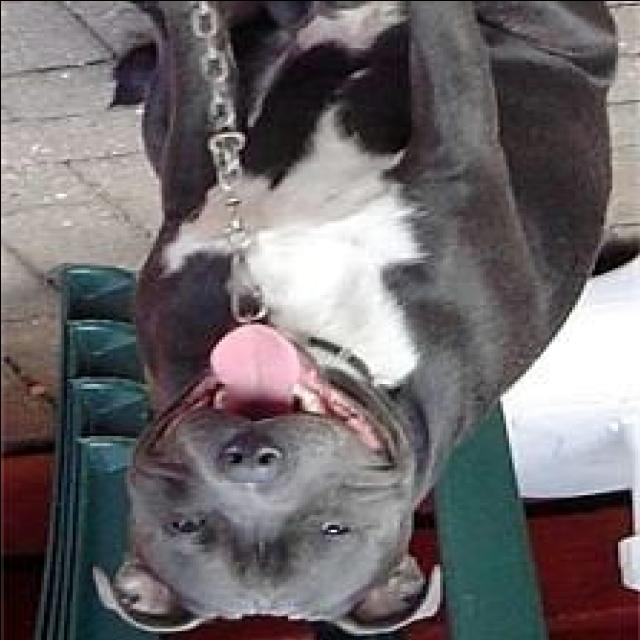staffordshire_bullterrier: (84, 2, 612, 640)
